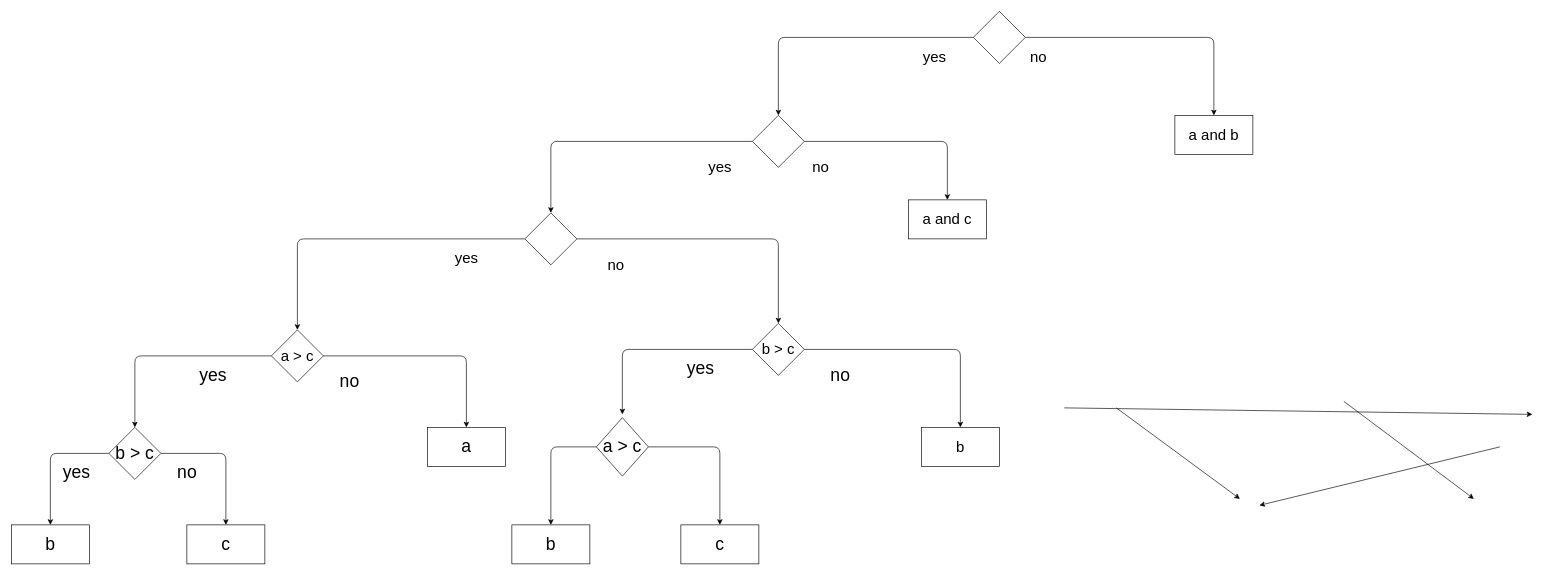
This 1549x575 diagram has some shape labels left out. Here are the shapes that lost their labels. From the top down, the centre of each, then its label:
point (999, 37): a != b
point (778, 141): a ! = c
point (550, 238): a > b
